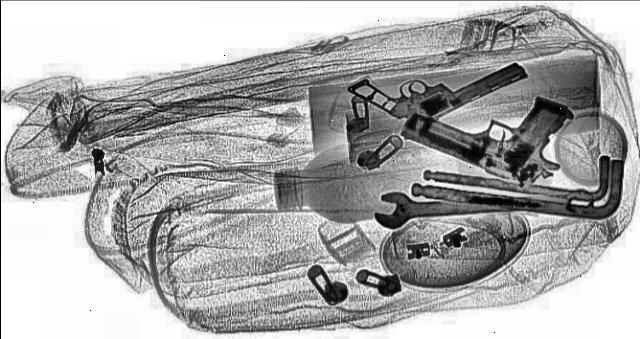Gun: (390, 75, 630, 190), (340, 36, 538, 128)
Wrench: (369, 184, 599, 229)
